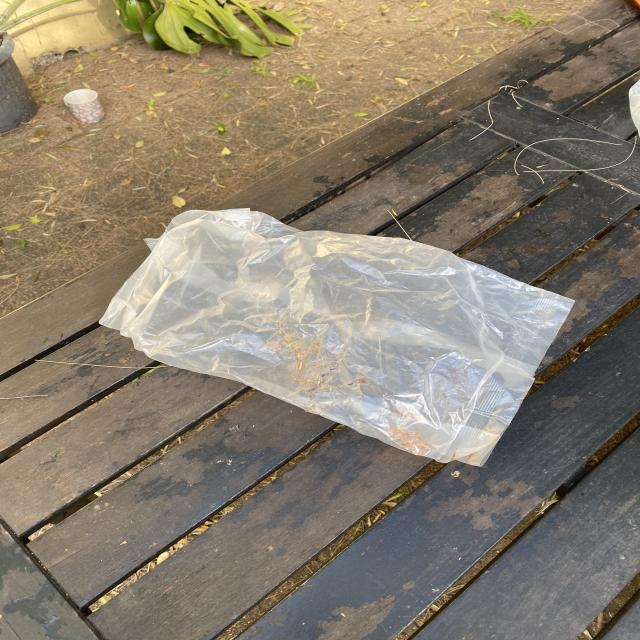bag: (97, 207, 578, 468)
cup: (62, 88, 107, 125)
